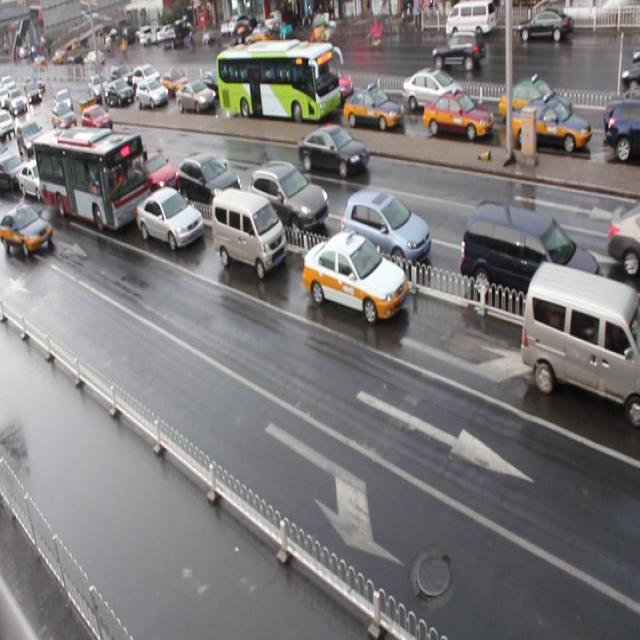car: (303, 231, 408, 324), (341, 190, 431, 274), (249, 160, 329, 233), (512, 97, 591, 155), (137, 186, 204, 250), (497, 74, 573, 129), (300, 122, 368, 180), (178, 151, 243, 210), (424, 92, 494, 139), (399, 67, 466, 114), (0, 201, 54, 258), (344, 84, 404, 132), (606, 199, 640, 274), (135, 146, 180, 194), (606, 98, 640, 159), (603, 92, 640, 138), (20, 157, 57, 201), (313, 64, 353, 101), (85, 134, 123, 172), (176, 82, 217, 114), (82, 105, 114, 143), (1, 152, 29, 194), (32, 129, 61, 168), (16, 120, 42, 160), (136, 78, 168, 110), (130, 62, 161, 93), (197, 69, 229, 99), (160, 68, 191, 96), (108, 78, 134, 106), (53, 106, 76, 129)
truck: (520, 256, 640, 426), (463, 197, 604, 327), (212, 188, 288, 278)
van: (35, 125, 154, 234), (216, 44, 340, 122)
